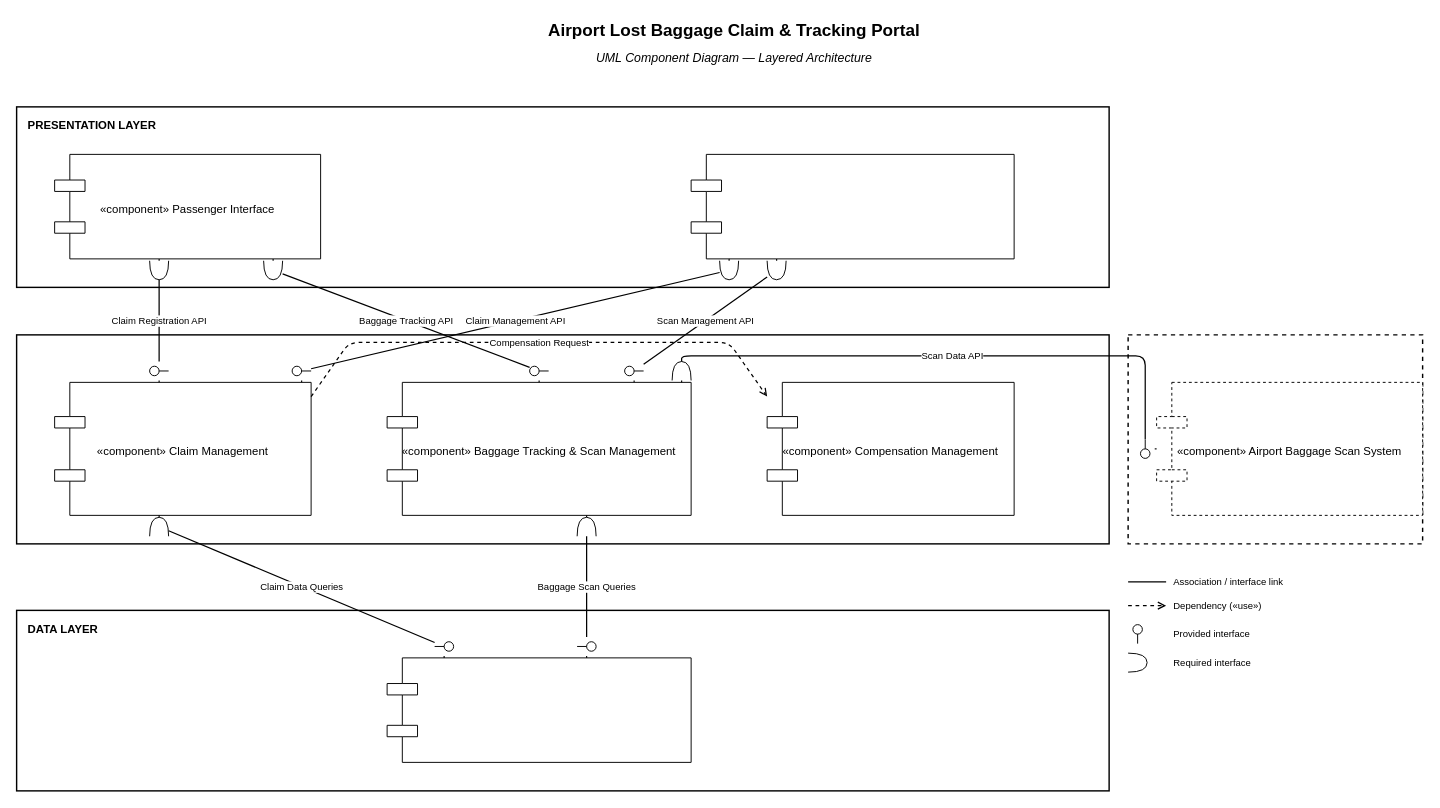
Image size: 1440x808. Some labels were removed from this diagram. The shapes that lost their labels are listed below. From the top down, each one's box as (x1, y1, x2, y2) in pixels, then its label:
(690, 153, 1014, 259): «component» Baggage Service Agent Interface
(15, 334, 1109, 544): BUSINESS LAYER
(1127, 334, 1423, 544): EXTERNAL SYSTEM
(386, 657, 691, 762): «component» Airport Baggage Database
